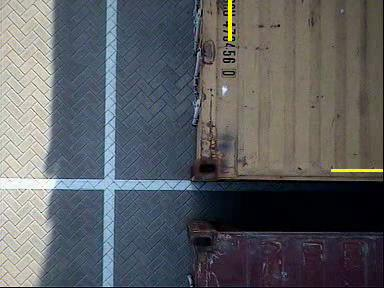groundmarker_2: (124, 154, 187, 191)
